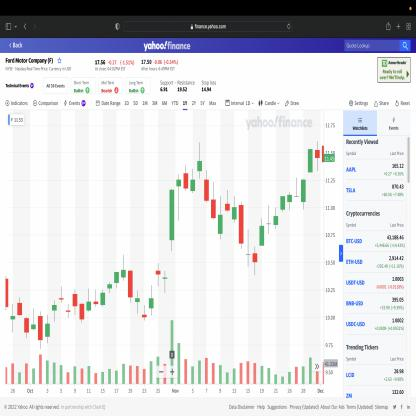Bearish Abandoned Baby: (190, 139, 210, 209)
